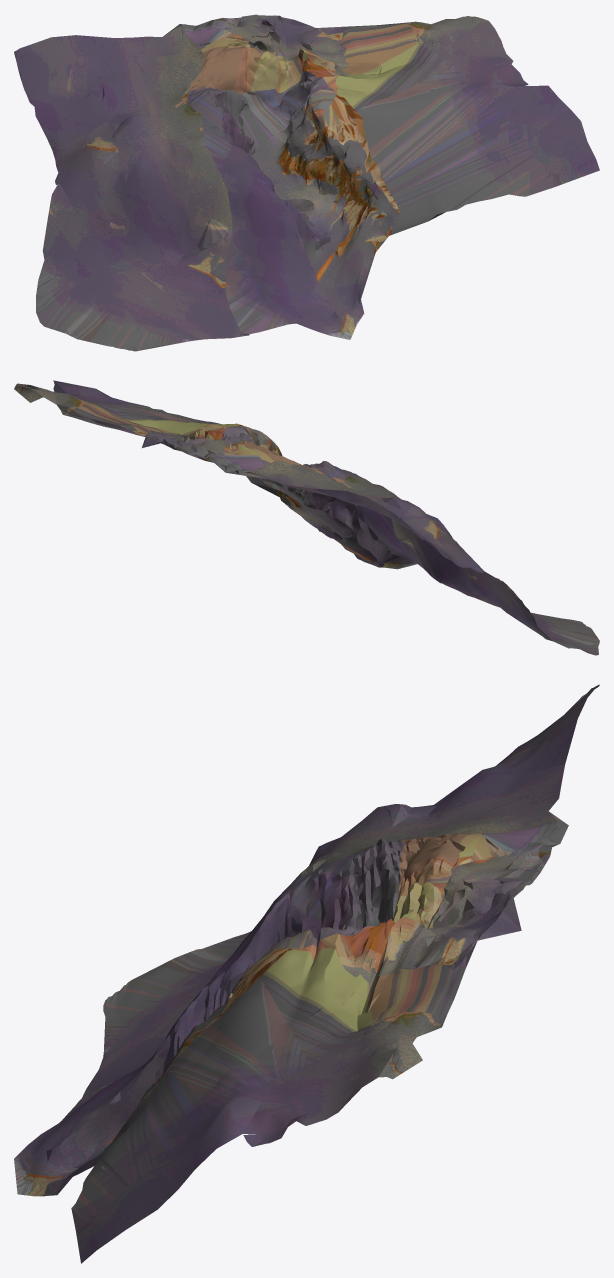
The model's file is bigStartCanyonV2.fbx.
3 views of the same model, one above another, from view 1: azimuth 30°, elevation 25°; view 2: azimuth 150°, elevation 25°; view 3: azimuth 270°, elevation 25° (orthographic). The views are drawn at different scales.
Visible parts, largest first — view 1: big_start_canyon; view 2: big_start_canyon; view 3: big_start_canyon.
Part boxes in pixels (x1=…): big_start_canyon: x1=14, y1=14, x2=599, y2=351; big_start_canyon: x1=14, y1=380, x2=599, y2=655; big_start_canyon: x1=14, y1=684, x2=599, y2=1263.
Bounding box in the file's own units: 45143 × 18139 × 25352.
